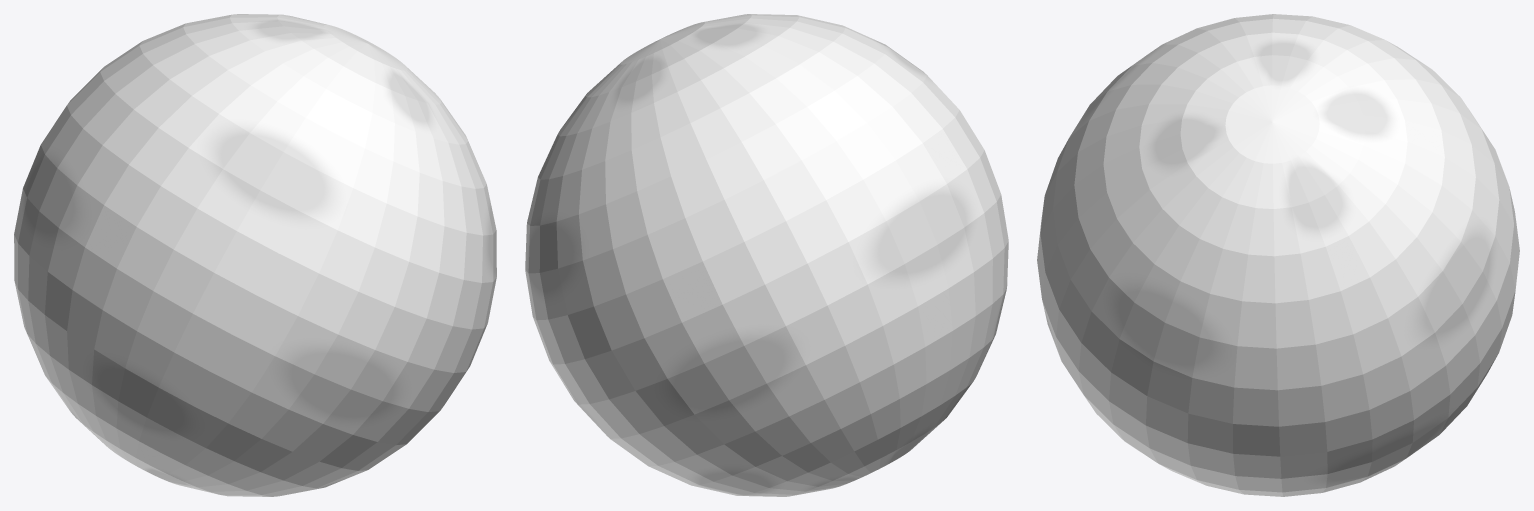
The model's file is ball.obj.
3 views of the same model, side by side, from view 1: azimuth 30°, elevation 25°; view 2: azimuth 150°, elevation 25°; view 3: azimuth 270°, elevation 25° (orthographic).
Parts seen in each view (by area): view 1: 球; view 2: 球; view 3: 球.
Boxes of the visible parts, x1,y1,x2,y2 form: 球: (14,14,496,496); 球: (525,14,1008,496); 球: (1037,14,1519,496).
Bounding box in the file's own units: 0.3929 × 0.3928 × 0.3931.
1 material, 1 textured.
